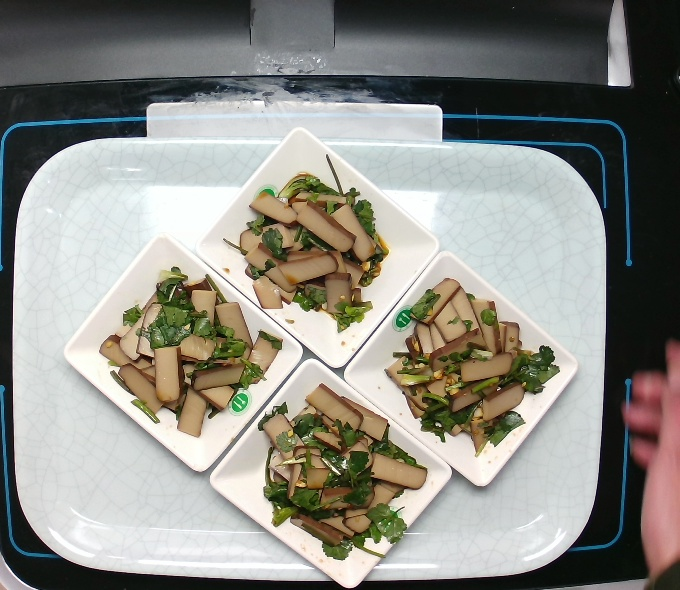wcq-JiDanGan: (92, 269, 287, 457), (250, 374, 432, 567), (382, 267, 547, 463), (223, 174, 394, 341)
